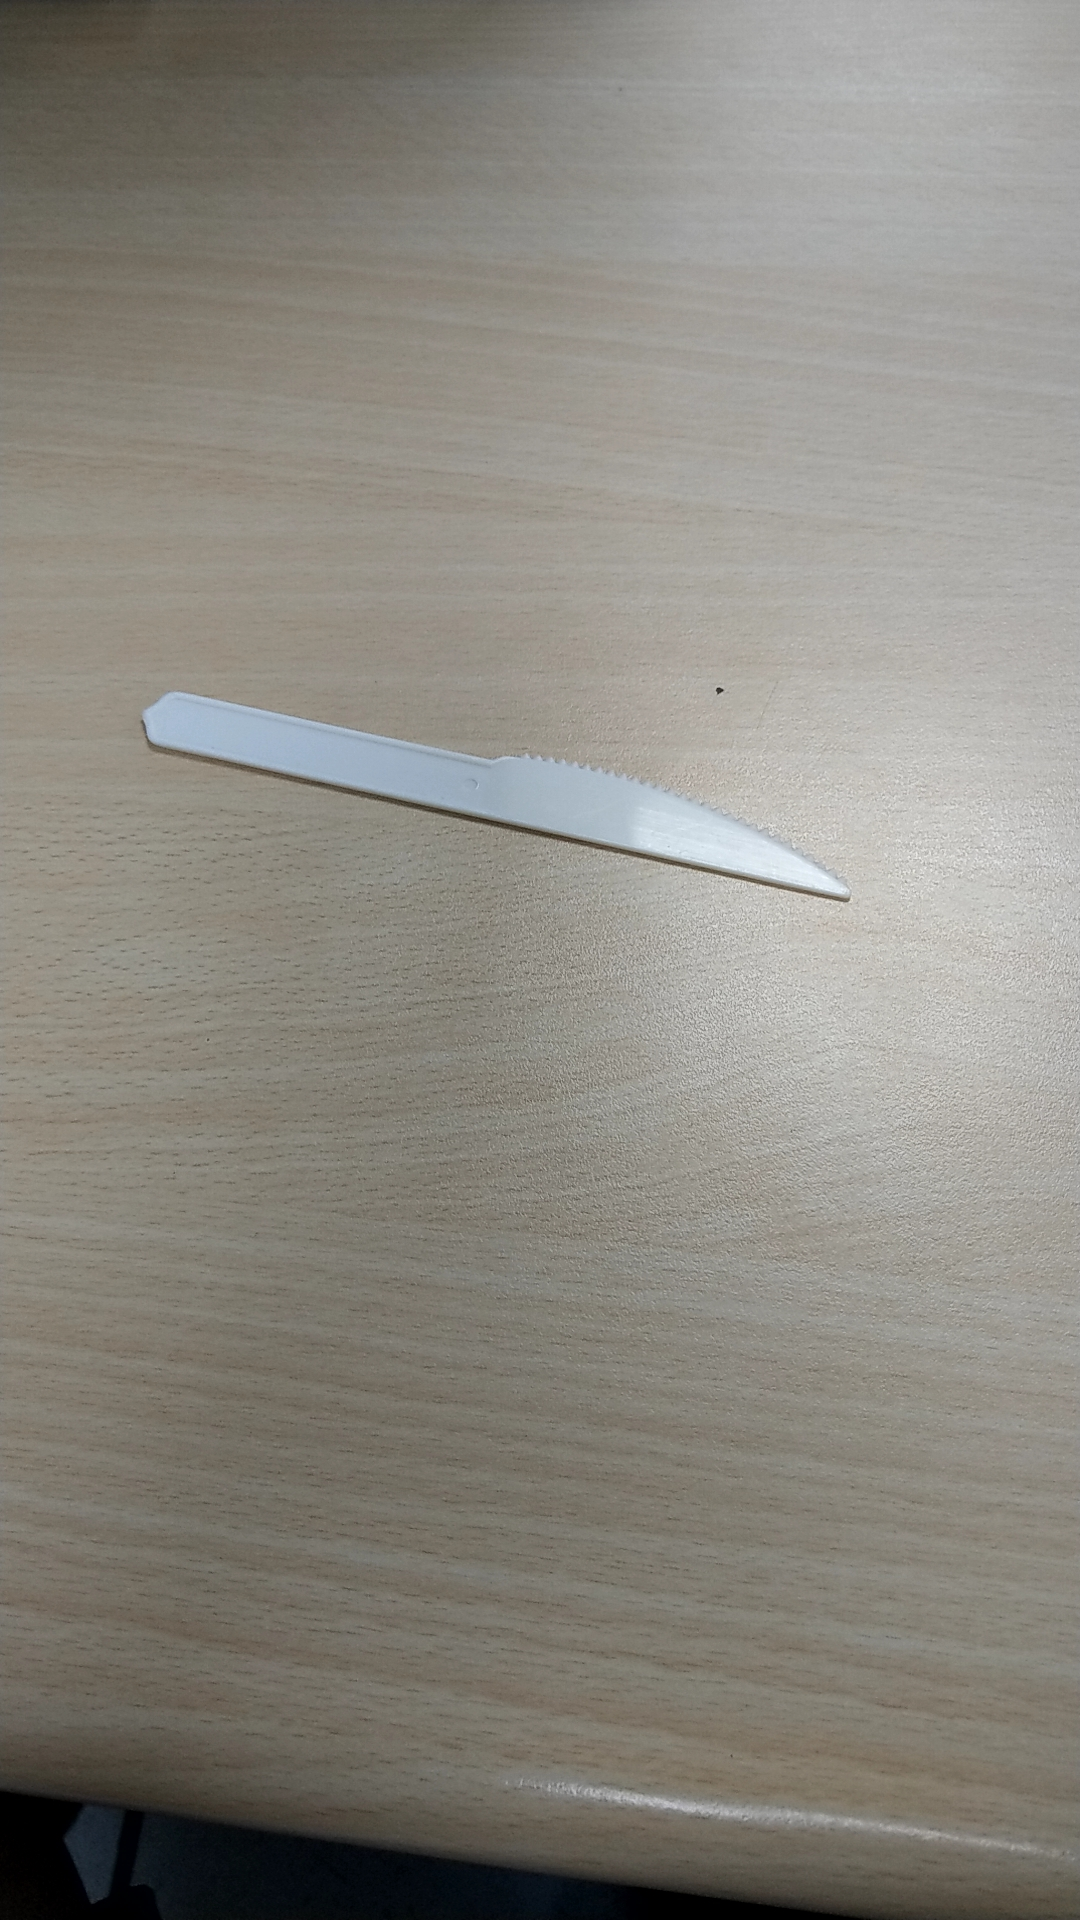knife: (98, 665, 858, 924)
